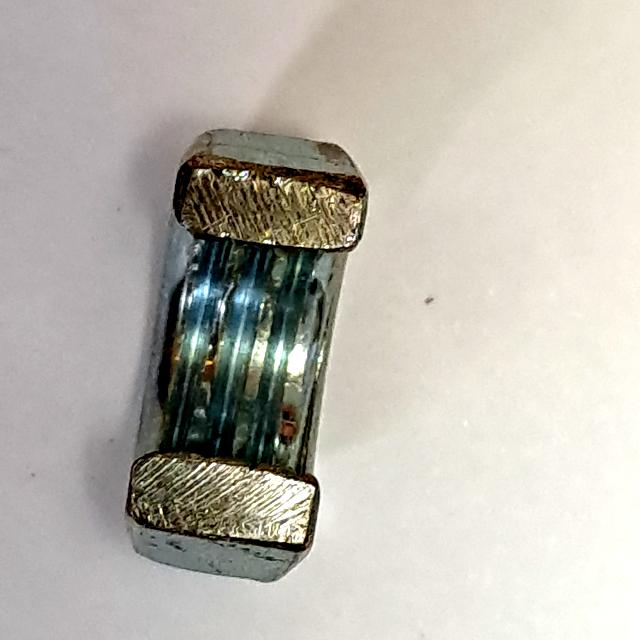Side-Fracture: (111, 117, 377, 592)
